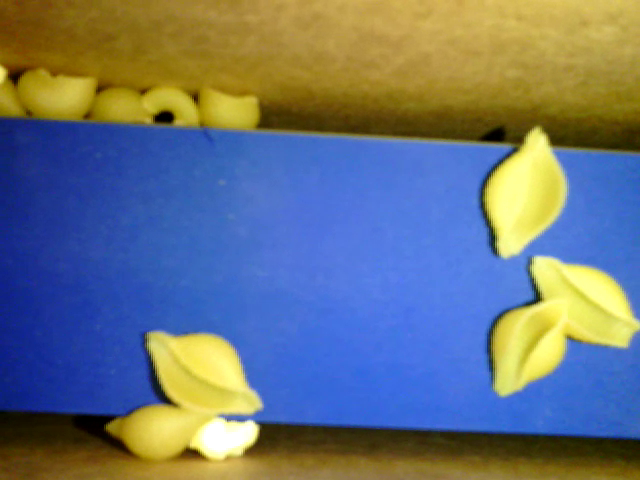elbow: (144, 84, 202, 125)
shell: (482, 125, 570, 260), (529, 251, 639, 350), (145, 328, 265, 416), (486, 292, 571, 397), (104, 403, 218, 460), (14, 68, 98, 117), (198, 85, 260, 127), (91, 87, 158, 123)
